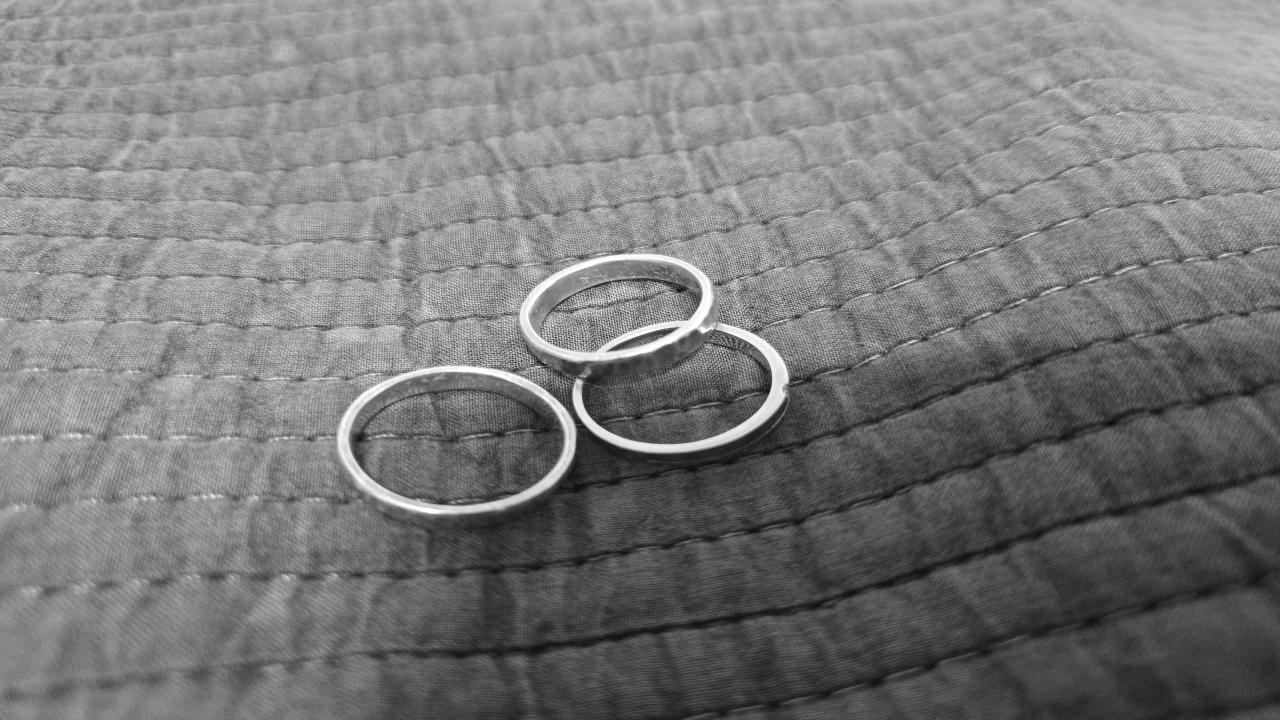ring: (334, 367, 577, 521), (570, 326, 796, 463), (515, 251, 722, 379)
